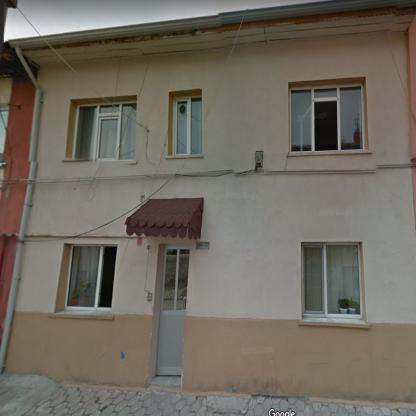door: (157, 245, 190, 377)
window: (289, 84, 364, 151), (302, 244, 361, 318), (72, 101, 135, 159), (65, 245, 116, 310), (172, 94, 201, 153)
